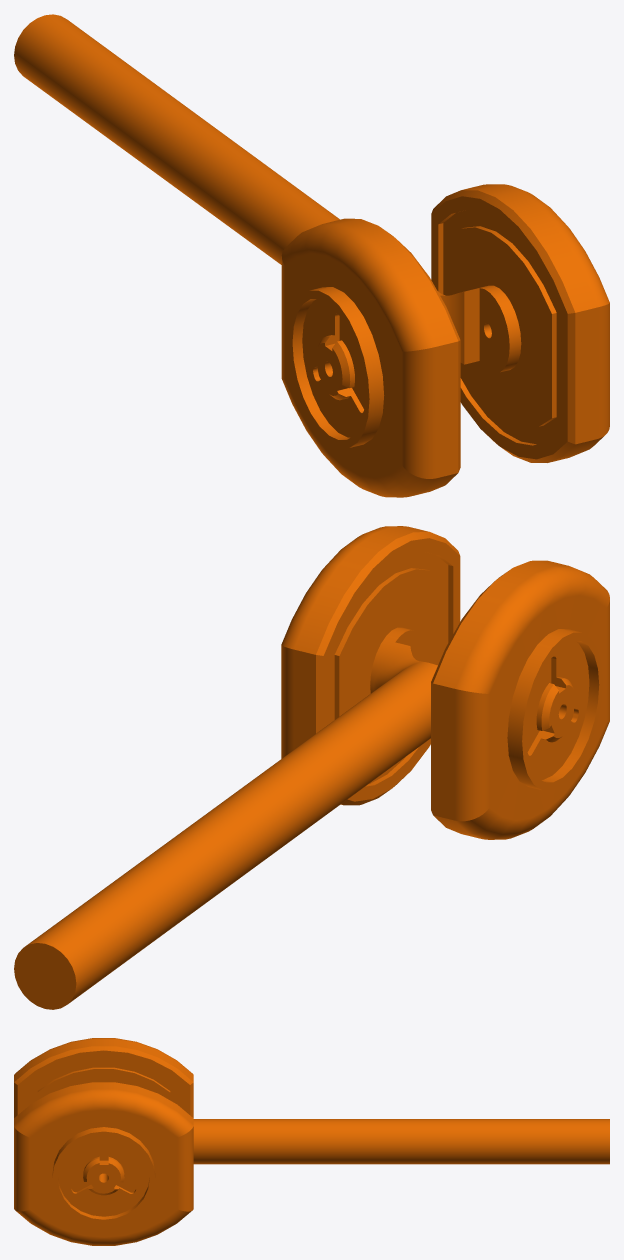
File: fifth_axis.dae
3 renders of one model, top to bottom at view 1: azimuth 30°, elevation 25°; view 2: azimuth 150°, elevation 25°; view 3: azimuth 270°, elevation 25°, orthographic. The views are drawn at different scales.
Parts seen in each view (by area): view 1: fifth_axis; view 2: fifth_axis; view 3: fifth_axis.
Boxes of the visible parts, x1=… form: fifth_axis: x1=14, y1=14, x2=609, y2=497; fifth_axis: x1=14, y1=526, x2=609, y2=1009; fifth_axis: x1=14, y1=1038, x2=609, y2=1245.
Size of the model in its own units: 0.8 by 2.79 by 0.8035.
